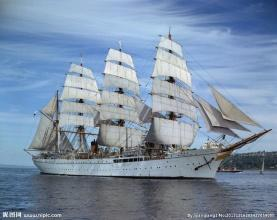fanchuan: (20, 32, 271, 178)
